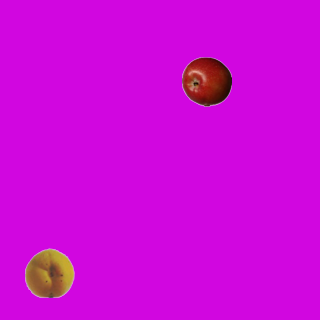Apple Braeburn: (181, 56, 231, 106)
Peach 2: (24, 247, 74, 297)
